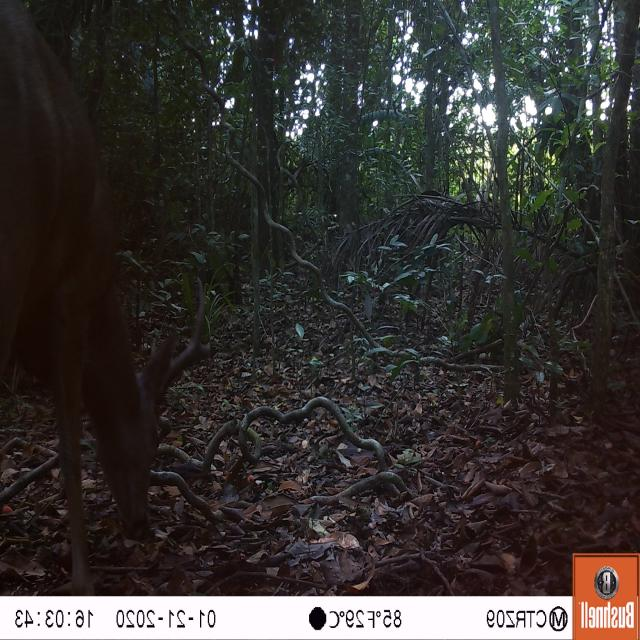White-tailed Deer: (0, 1, 218, 589)
